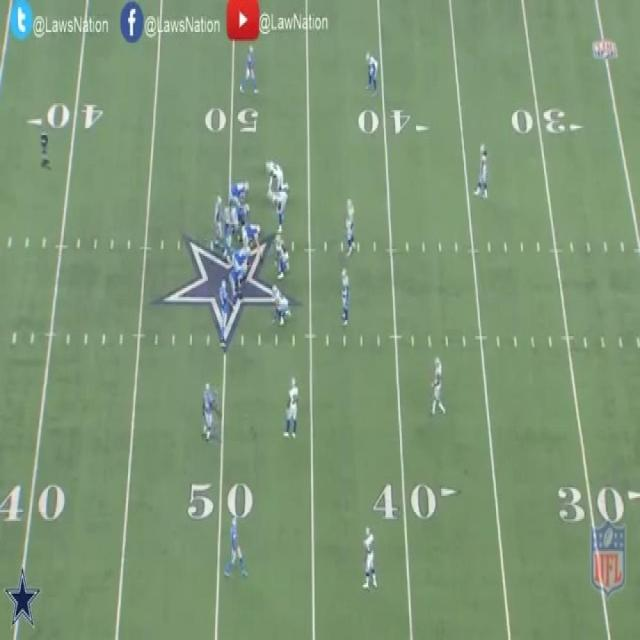center: (243, 224, 263, 254)
db: (361, 527, 377, 593), (430, 358, 446, 416), (477, 140, 491, 200), (285, 377, 298, 435), (364, 51, 379, 90)
lb: (340, 268, 351, 322), (346, 194, 355, 255)
qb: (214, 194, 222, 242)
